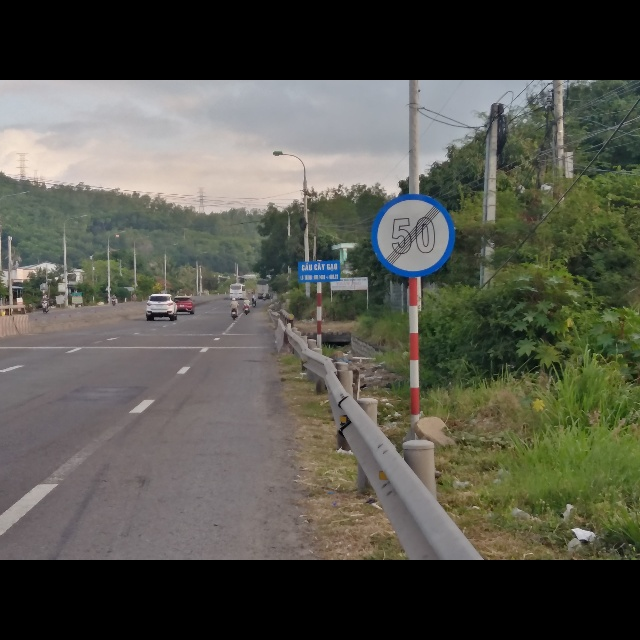Hết hạn chế tốc độ tối đa 50km/h: (366, 193, 453, 281)
